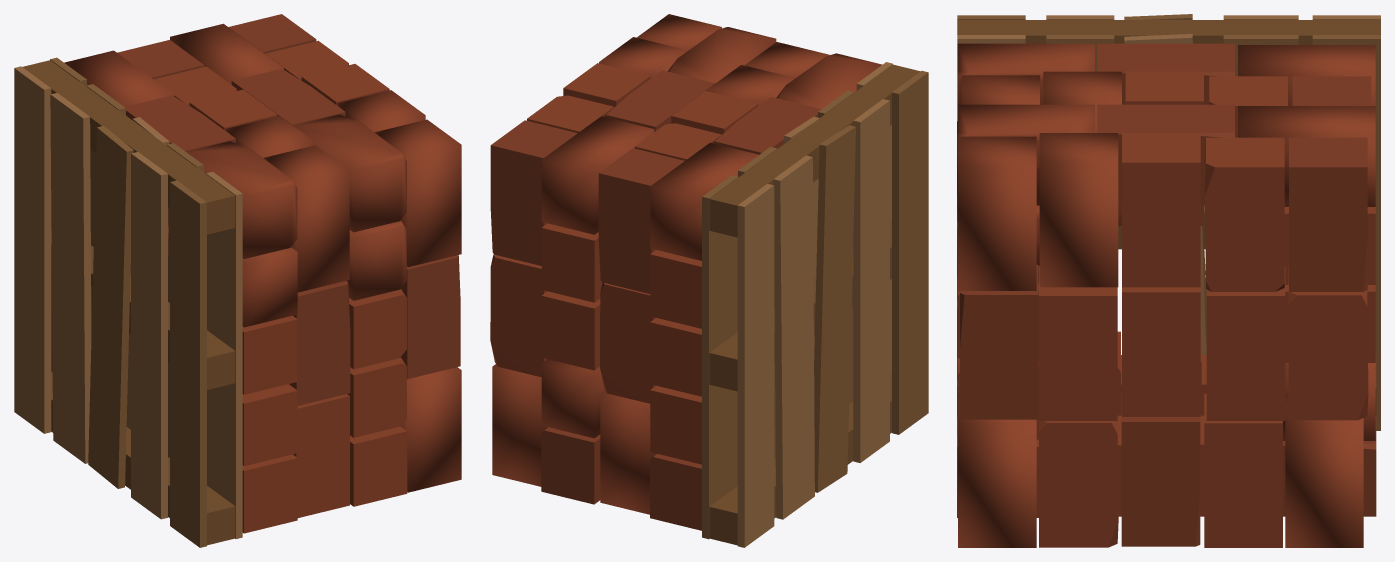
Rendered from BrickPalletsBroke.fbx.
3 views of the same model, side by side, from view 1: azimuth 30°, elevation 25°; view 2: azimuth 150°, elevation 25°; view 3: azimuth 270°, elevation 25° (orthographic). The views are drawn at different scales.
Parts seen in each view (by area): view 1: BrickPallets_fracturepart_14, BrickPallets_fracturepart_3, BrickPallets_fracturepart_10, BrickPallets_fracturepart5_5, BrickPallets_fracturepart_8, BrickPallets_fracturepart_13, BrickPallets_fracturepart9_7, BrickPallets_fracturepart7_6, BrickPallets_fracturepart9_6, BrickPallets_fracturepart10_6, BrickPallets_fracturepart9_8, BrickPallets_fracturepart2_5 (+51 smaller); view 2: BrickPallets_fracturepart_9, BrickPallets_fracturepart5_5, BrickPallets_fracturepart_7, BrickPallets_fracturepart1_9, BrickPallets_fracturepart1_6, BrickPallets_fracturepart2_5, BrickPallets_fracturepart9_7, BrickPallets_fracturepart9_6, BrickPallets_fracturepart_4, BrickPallets_fracturepart, BrickPallets_fracturepart10_6, BrickPallets_fracturepart4_6 (+51 smaller); view 3: BrickPallets_fracturepart_2, BrickPallets_fracturepart_14, BrickPallets_fracturepart9_11, BrickPallets_fracturepart1_7, BrickPallets_fracturepart1_6, BrickPallets_fracturepart_13, BrickPallets_fracturepart, BrickPallets_fracturepart8_24, BrickPallets_fracturepart3_7, BrickPallets_fracturepart4_5, BrickPallets_fracturepart4_6, BrickPallets_fracturepart7_15 (+43 smaller).
Part boxes in pixels (x1,y1,x2,y2): BrickPallets_fracturepart_14: (374, 119, 461, 267); BrickPallets_fracturepart_3: (263, 145, 349, 292); BrickPallets_fracturepart_10: (293, 114, 406, 232); BrickPallets_fracturepart5_5: (170, 335, 206, 527); BrickPallets_fracturepart_8: (186, 141, 297, 258); BrickPallets_fracturepart_13: (400, 367, 461, 492); BrickPallets_fracturepart9_7: (131, 152, 167, 331); BrickPallets_fracturepart7_6: (293, 394, 349, 517); BrickPallets_fracturepart9_6: (170, 180, 206, 346); BrickPallets_fracturepart10_6: (51, 179, 91, 351); BrickPallets_fracturepart9_8: (94, 125, 133, 299); BrickPallets_fracturepart2_5: (131, 313, 158, 513); BrickPallets_fracturepart_9: (541, 116, 654, 234); BrickPallets_fracturepart5_5: (892, 214, 928, 434); BrickPallets_fracturepart_7: (650, 142, 758, 260); BrickPallets_fracturepart1_9: (598, 148, 684, 266); BrickPallets_fracturepart1_6: (490, 120, 577, 239); BrickPallets_fracturepart2_5: (853, 258, 887, 462); BrickPallets_fracturepart9_7: (853, 99, 889, 280); BrickPallets_fracturepart9_6: (892, 71, 928, 245); BrickPallets_fracturepart_4: (600, 391, 656, 514); BrickPallets_fracturepart: (492, 364, 547, 486); BrickPallets_fracturepart10_6: (774, 242, 814, 383); BrickPallets_fracturepart4_6: (490, 254, 546, 356); BrickPallets_fracturepart_2: (1039, 133, 1118, 287); BrickPallets_fracturepart_14: (958, 136, 1036, 290); BrickPallets_fracturepart9_11: (1122, 133, 1200, 287); BrickPallets_fracturepart1_7: (1205, 137, 1284, 285); BrickPallets_fracturepart1_6: (1289, 137, 1367, 273); BrickPallets_fracturepart_13: (958, 393, 1036, 547); BrickPallets_fracturepart: (1285, 393, 1363, 547); BrickPallets_fracturepart8_24: (1121, 392, 1200, 546); BrickPallets_fracturepart3_7: (1204, 393, 1282, 547); BrickPallets_fracturepart4_5: (1206, 266, 1285, 398); BrickPallets_fracturepart4_6: (1288, 266, 1368, 397); BrickPallets_fracturepart7_15: (1039, 421, 1106, 547).
Size of the model in its own units: 96.03 by 121 by 118.
1 material, 1 textured.
